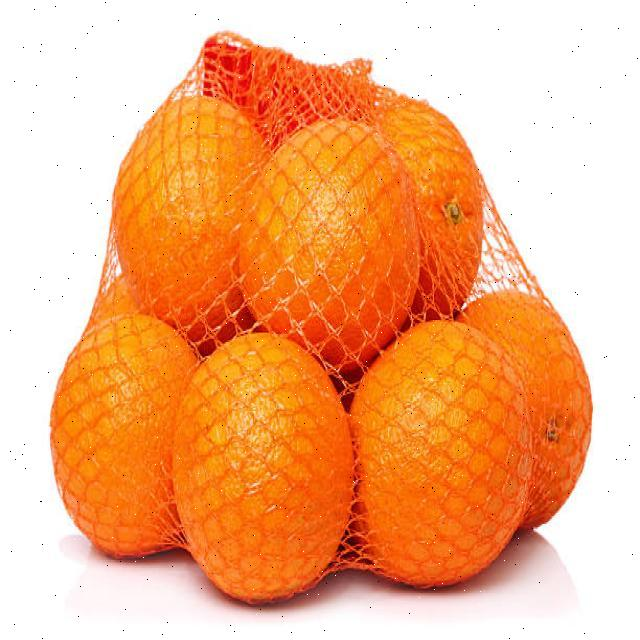Orange: (49, 31, 593, 605), (170, 330, 356, 605), (348, 318, 532, 589), (234, 116, 421, 374), (108, 92, 270, 350), (48, 312, 199, 559), (455, 289, 593, 530), (367, 94, 485, 321)
